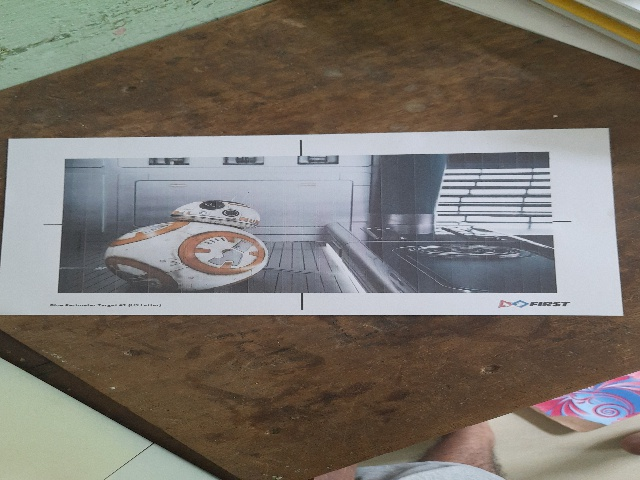bpt1: (10, 136, 618, 304)
